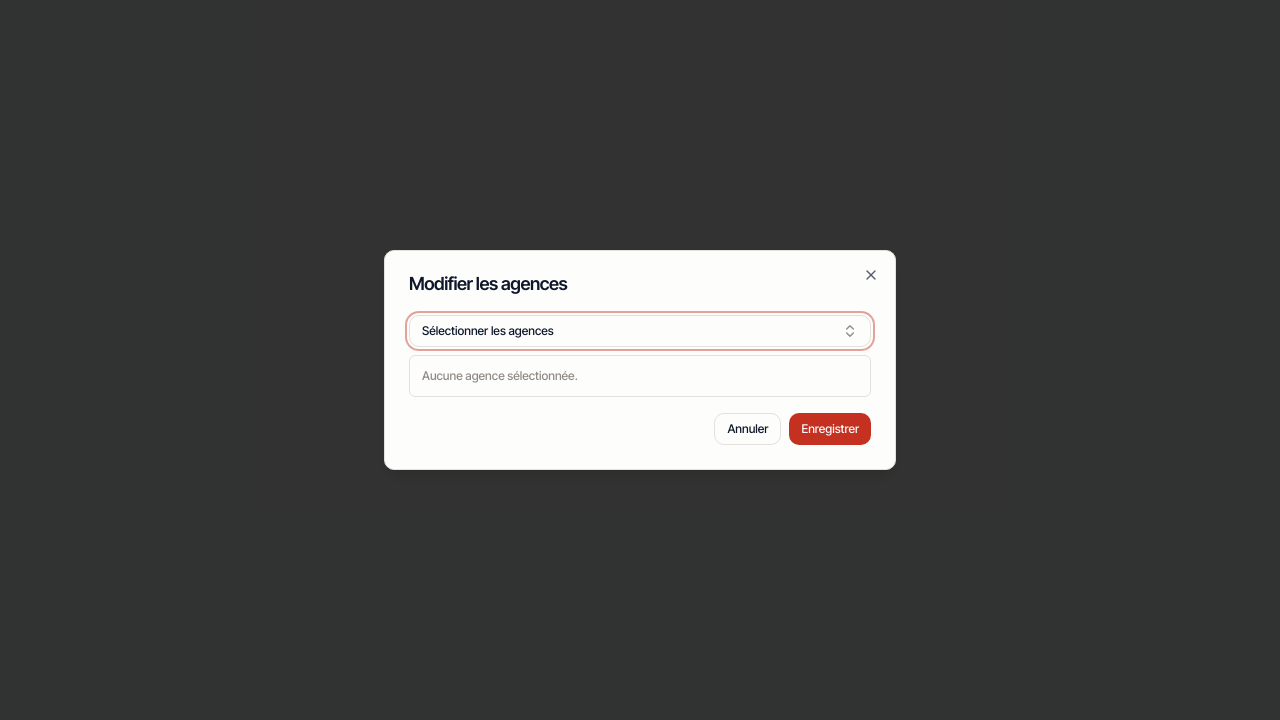
UserMembershipDialog › prevents saving when no agency is selected
Click the button "Enregistrer" at (830, 429), box [790, 413, 871, 445]
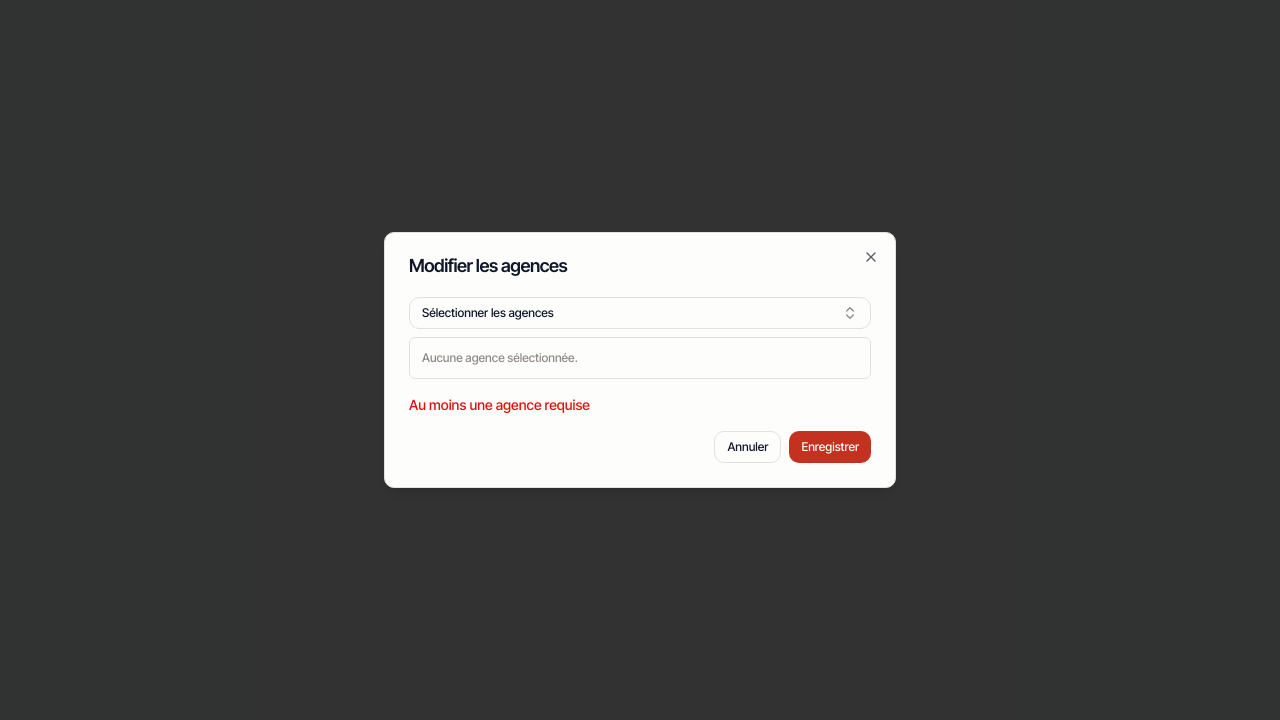
Check: the text "Au moins une agence requise" is shown, box [409, 396, 590, 413]
